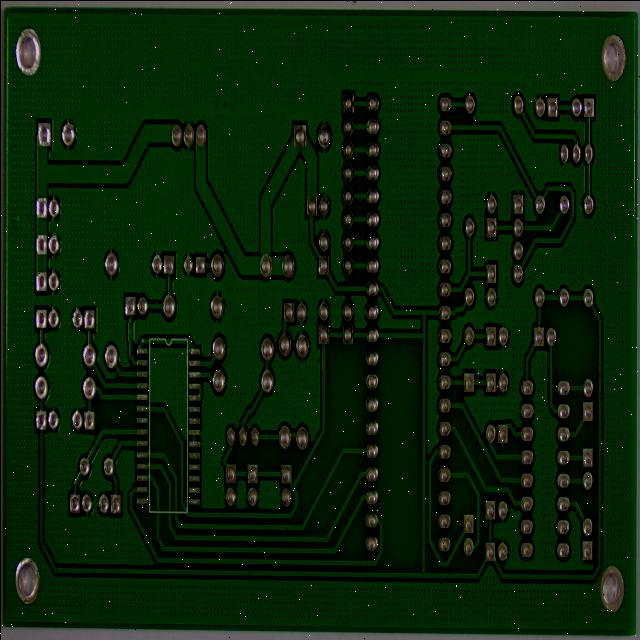spur: (125, 322, 134, 341), (202, 357, 212, 372), (152, 298, 161, 311)
